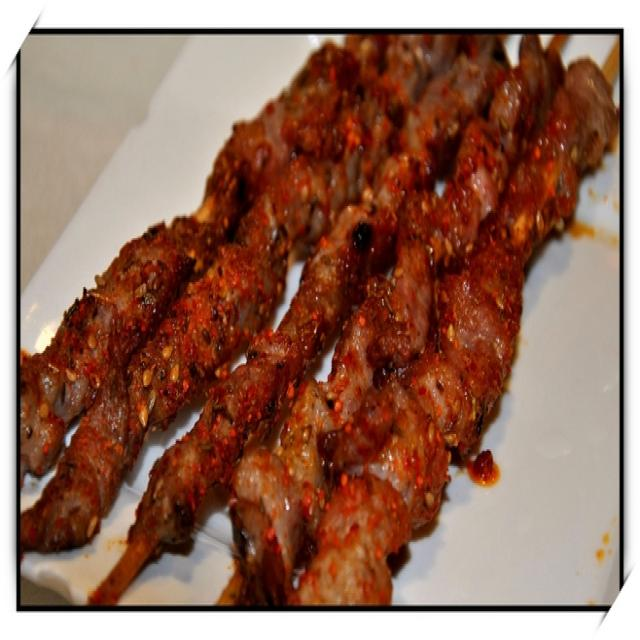烧串烤肉: (29, 47, 626, 613)
